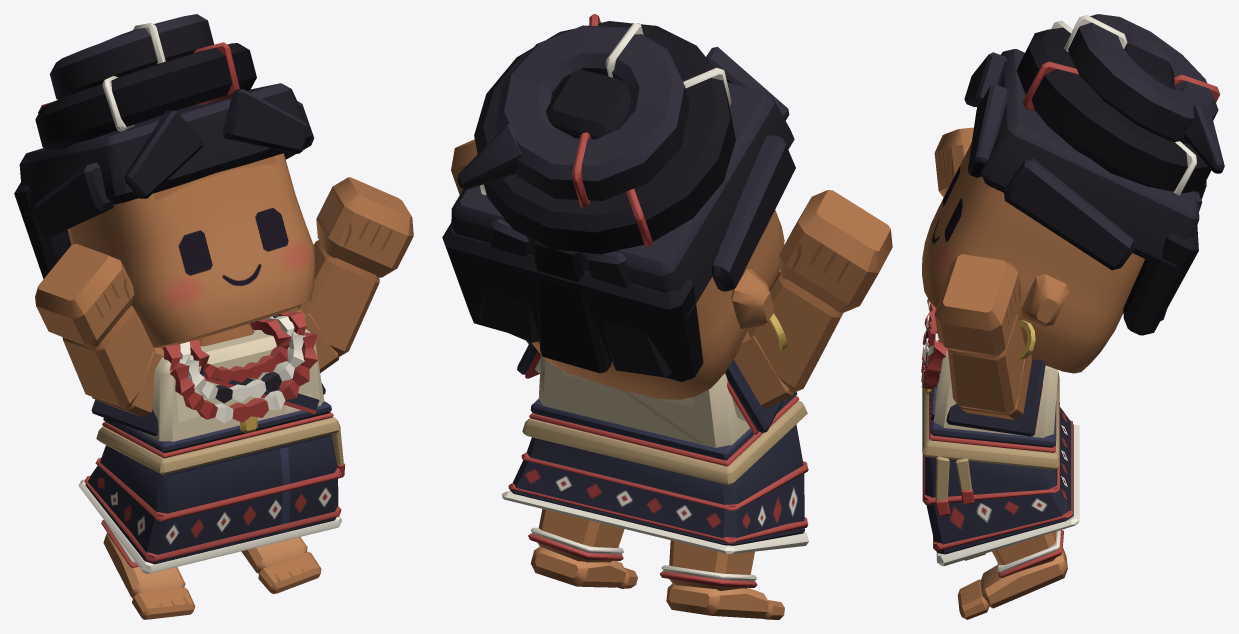
Rendered from audience_v2_woman_cheer.glb.
3 renders of one model, left to right at view 1: azimuth 30°, elevation 25°; view 2: azimuth 150°, elevation 25°; view 3: azimuth 270°, elevation 25°, orthographic. The views are drawn at different scales.
Visible parts, largest first — view 1: audience_v2_woman_cheer; view 2: audience_v2_woman_cheer; view 3: audience_v2_woman_cheer.
Part boxes in pixels (x1=…): audience_v2_woman_cheer: x1=14, y1=14, x2=413, y2=619; audience_v2_woman_cheer: x1=442, y1=14, x2=892, y2=619; audience_v2_woman_cheer: x1=921, y1=14, x2=1224, y2=619.
Bounding box in the file's own units: 0.5947 × 0.8435 × 0.4174.
1 material, 1 textured.
